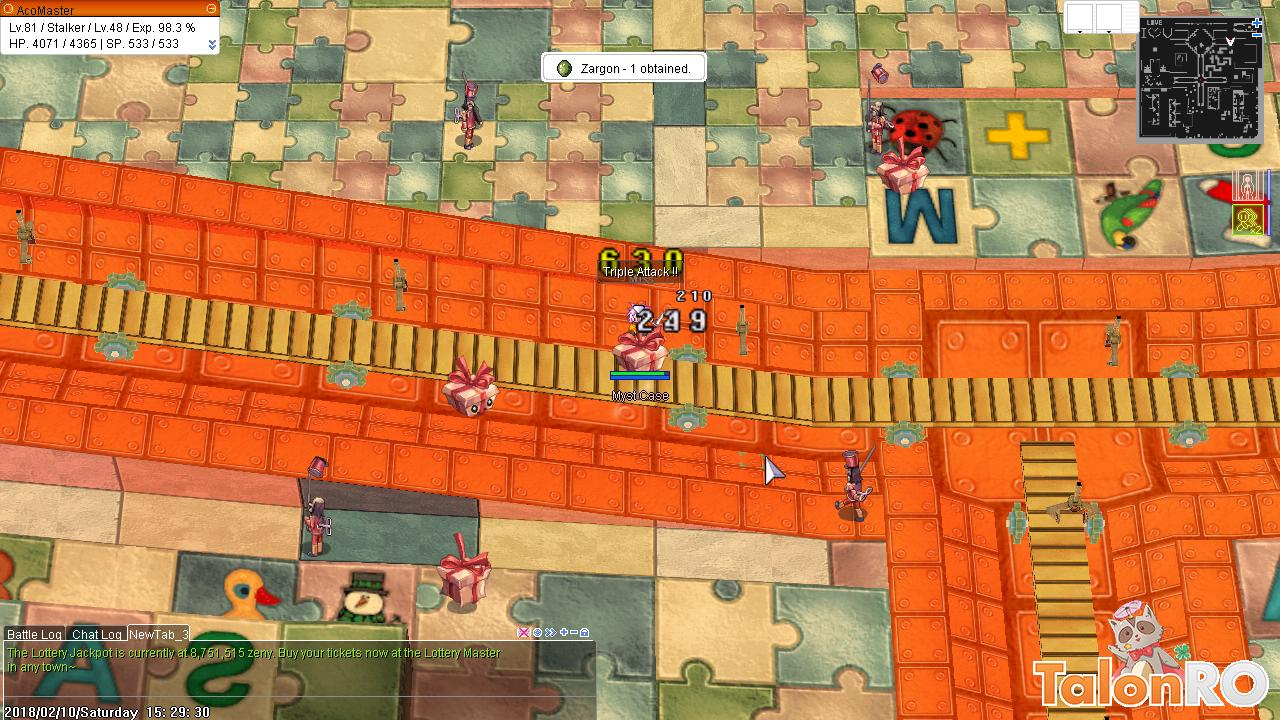mob: (294, 453, 340, 566), (829, 442, 882, 530), (857, 61, 896, 158), (452, 66, 486, 157)
myst_case: (432, 527, 493, 616), (443, 350, 500, 423), (874, 135, 929, 199), (609, 327, 670, 379)
